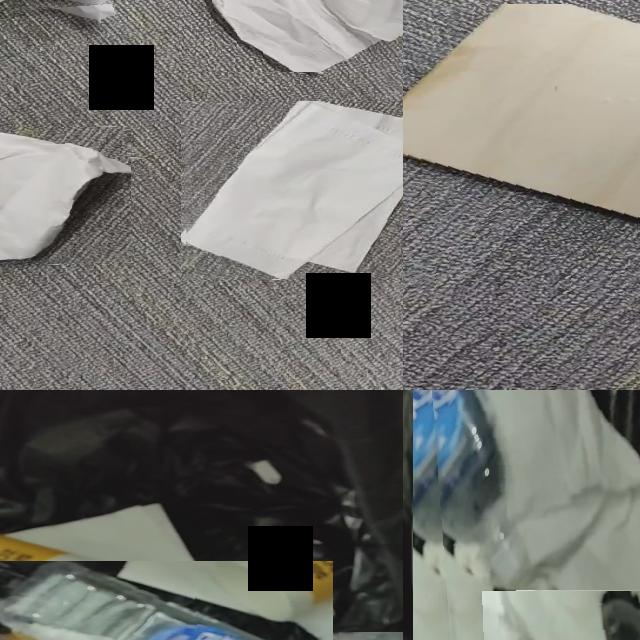bottle: (0, 561, 262, 640), (555, 390, 640, 588)
carton: (403, 4, 640, 225)
dixie_cup: (0, 534, 109, 623)
paper: (482, 390, 640, 640), (185, 101, 403, 279), (9, 504, 203, 610), (0, 134, 131, 261), (213, 0, 403, 72), (520, 579, 568, 640), (596, 543, 629, 584)
